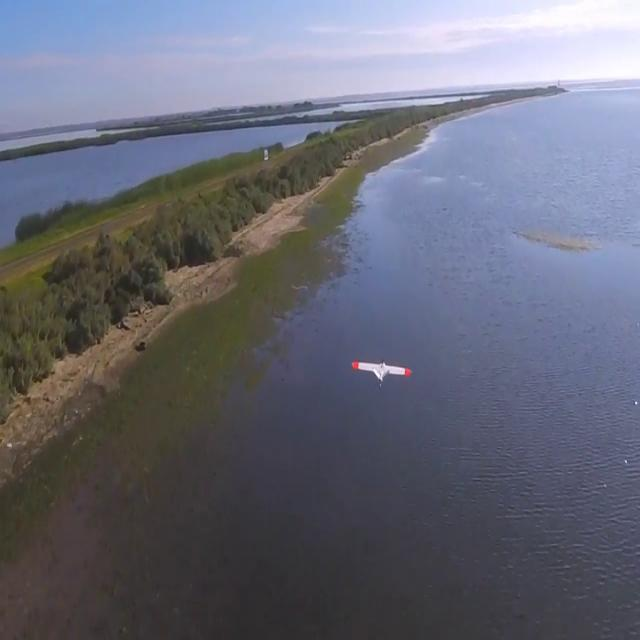iha: (351, 353, 411, 390)
